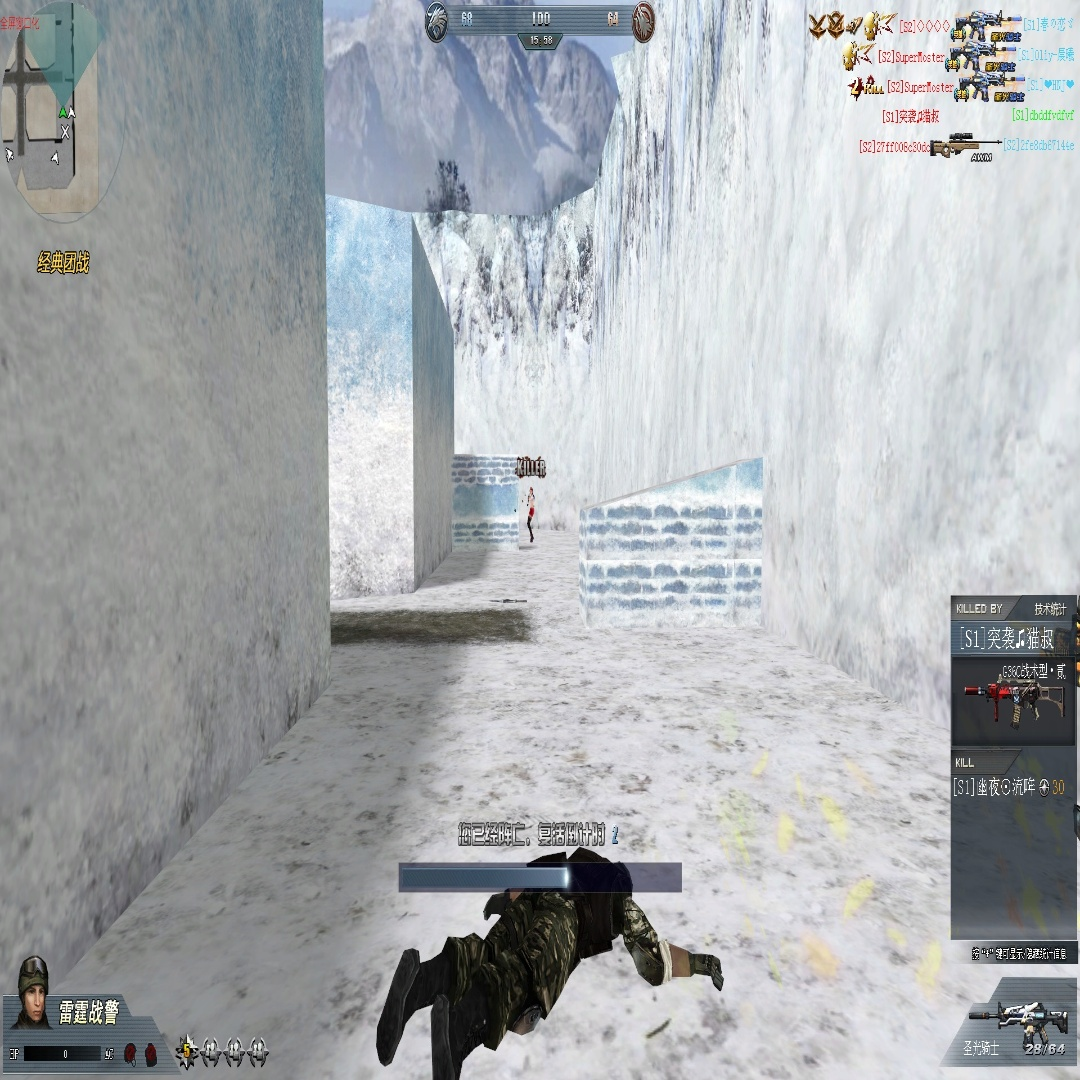t: (525, 486, 536, 544)
